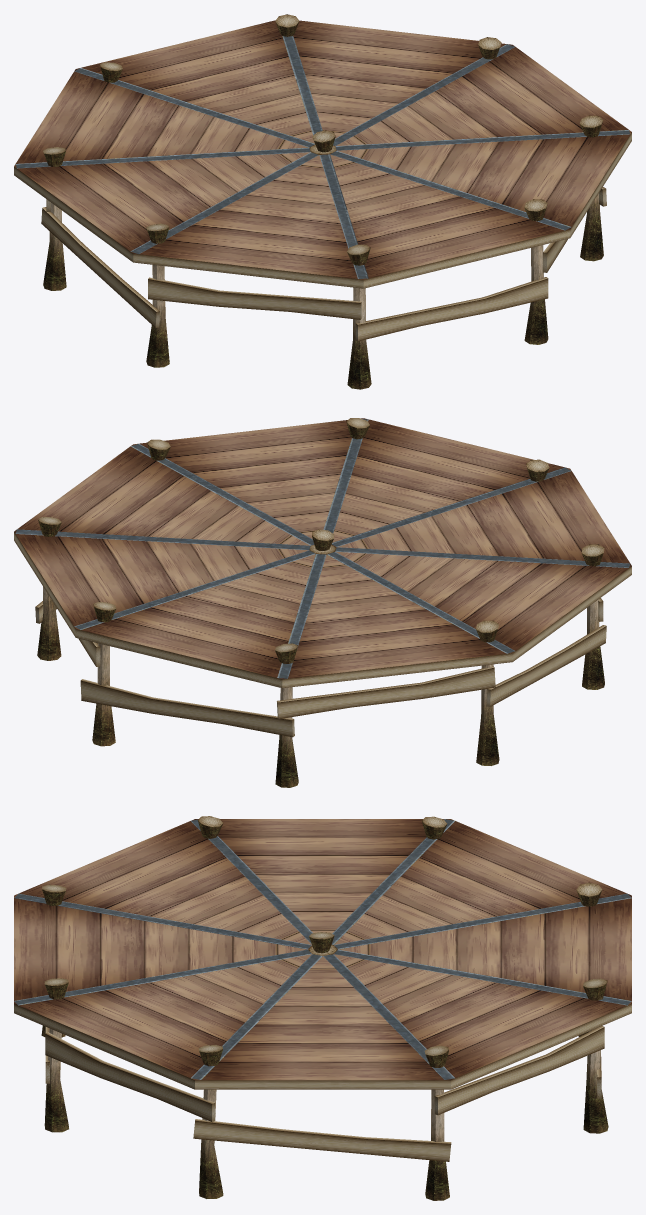
The model's file is p2_platform2_okt_LOD0.fbx.
The picture shows the model from 3 angles, top to bottom: view 1: azimuth 30°, elevation 25°; view 2: azimuth 150°, elevation 25°; view 3: azimuth 270°, elevation 25°; orthographic projection. The views are drawn at different scales.
Visible parts, largest first — view 1: polymsh; view 2: polymsh; view 3: polymsh.
Boxes of the visible parts, left/top/right/bottom form: polymsh: left=14, top=14, right=631, bottom=389; polymsh: left=14, top=418, right=631, bottom=787; polymsh: left=14, top=816, right=631, bottom=1200.
Bounding box in the file's own units: 292 × 76.47 × 292.
